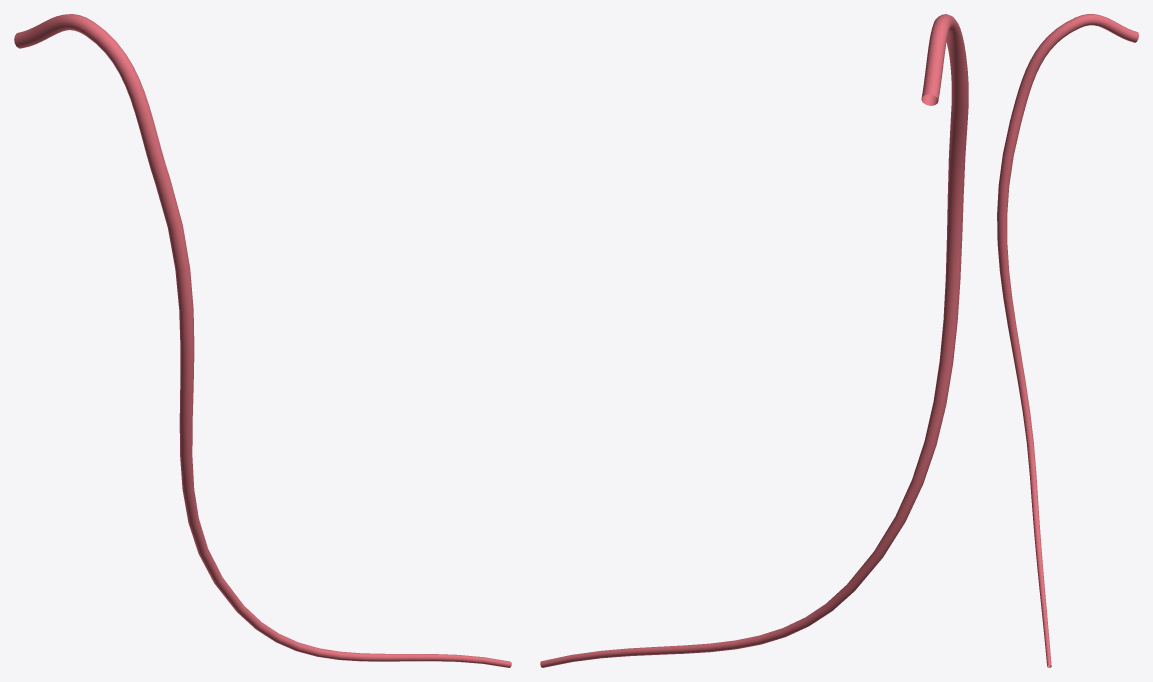
3 renders of one model, left to right at view 1: azimuth 30°, elevation 25°; view 2: azimuth 150°, elevation 25°; view 3: azimuth 270°, elevation 25°, orthographic. The views are drawn at different scales.
Parts seen in each view (by area): view 1: ZA_e259bb06450c0f42; view 2: ZA_e259bb06450c0f42; view 3: ZA_e259bb06450c0f42.
Part boxes in pixels (x1,y1,x2,y2): ZA_e259bb06450c0f42: (14,14,511,667); ZA_e259bb06450c0f42: (540,14,968,667); ZA_e259bb06450c0f42: (997,14,1138,667).
Size of the model in its own units: 0.0308 by 0.0492 by 0.0123.
